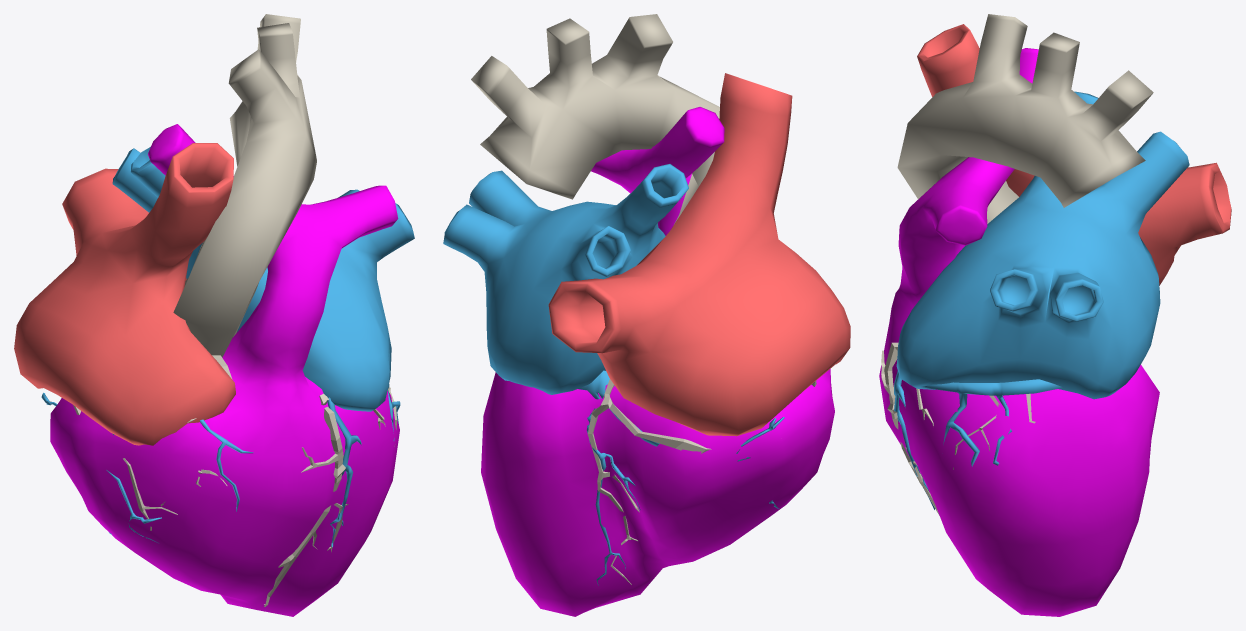
The picture shows the model from 3 angles, left to right: view 1: azimuth 30°, elevation 25°; view 2: azimuth 150°, elevation 25°; view 3: azimuth 270°, elevation 25°; orthographic projection.
Visible parts, largest first — view 1: Ventriculos, Auricula izq, Aorta, Auricula der, Arteritas, Venitas; view 2: Ventriculos, Auricula izq, Auricula der, Aorta, Arteritas, Venitas; view 3: Ventriculos, Auricula der, Aorta, Auricula izq, Venitas, Arteritas.
Part boxes in pixels (x1,y1,x2,y2): Ventriculos: (50,124,399,616); Auricula izq: (14,143,235,445); Aorta: (173,14,316,357); Auricula der: (112,146,414,411); Arteritas: (73,355,397,606); Venitas: (41,384,400,547); Ventriculos: (481,107,834,616); Auricula izq: (548,73,850,436); Auricula der: (443,164,688,394); Aorta: (471,14,719,224); Arteritas: (587,379,816,584); Venitas: (578,370,784,585); Ventriculos: (879,48,1159,616); Auricula der: (896,91,1189,399); Aorta: (897,14,1153,223); Auricula izq: (917,24,1231,285); Venitas: (894,370,1062,509); Arteritas: (881,342,1035,515).
Bounding box in the file's own units: 10.59 × 16.44 × 9.09.
